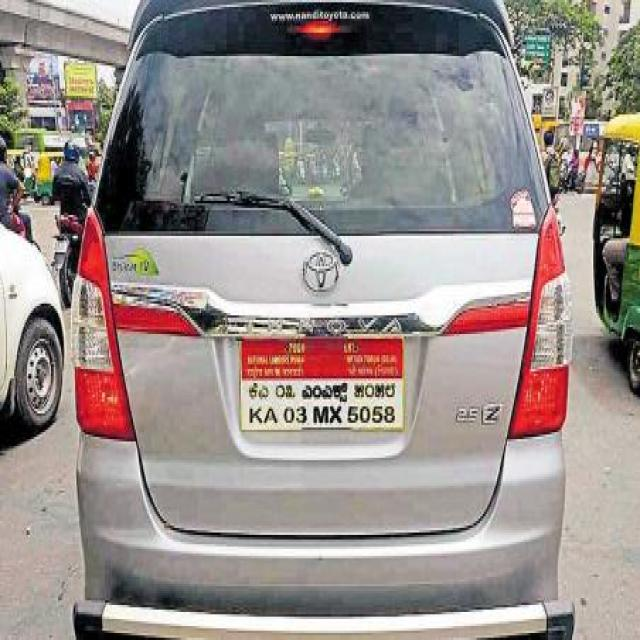license-plate: (239, 374, 402, 427)
